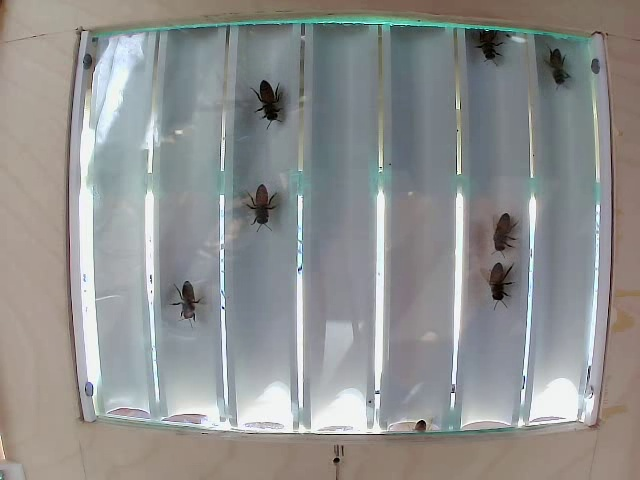bee: (167, 281, 212, 324), (253, 86, 290, 127), (477, 204, 512, 247), (241, 188, 276, 230), (477, 26, 505, 69), (541, 42, 569, 82), (487, 264, 513, 302)
